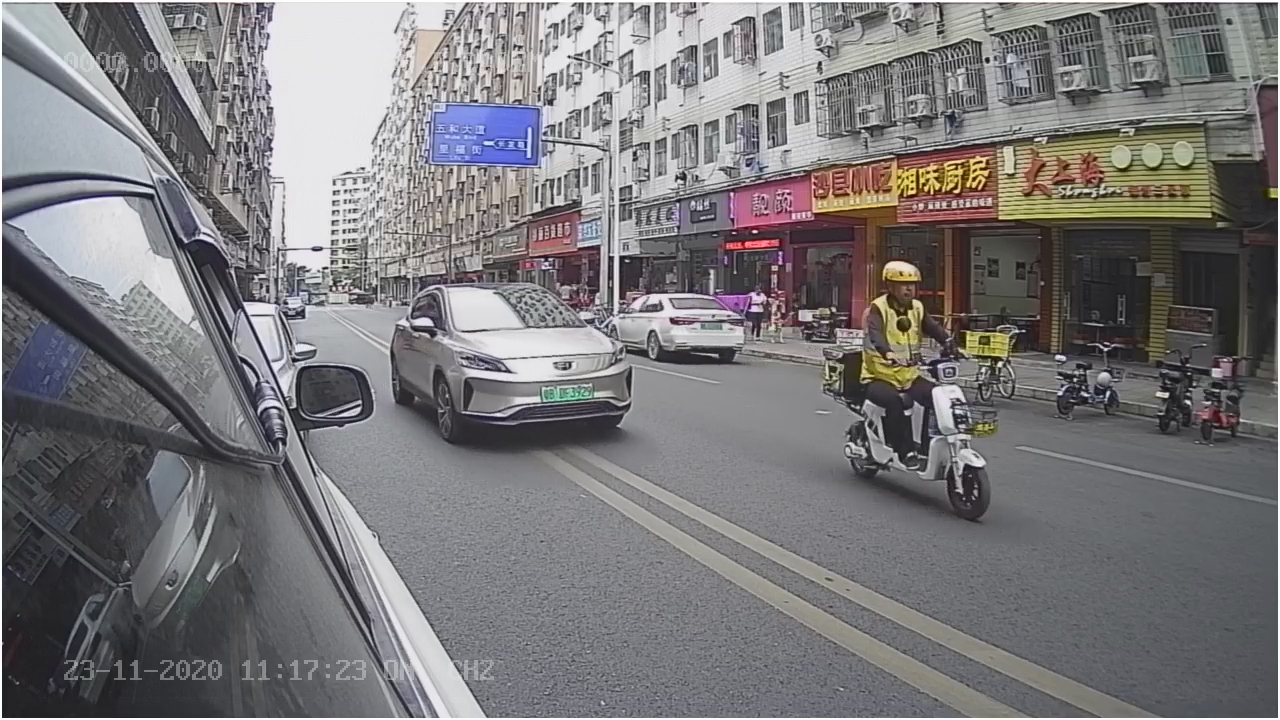person: (854, 255, 960, 367)
